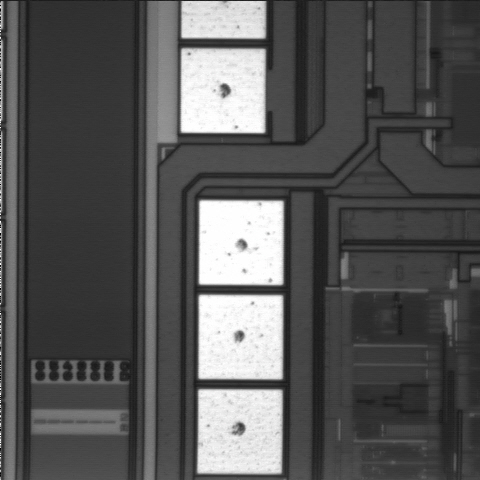pad: (197, 389, 282, 474), (199, 200, 283, 285), (198, 295, 283, 379), (181, 49, 265, 133)
